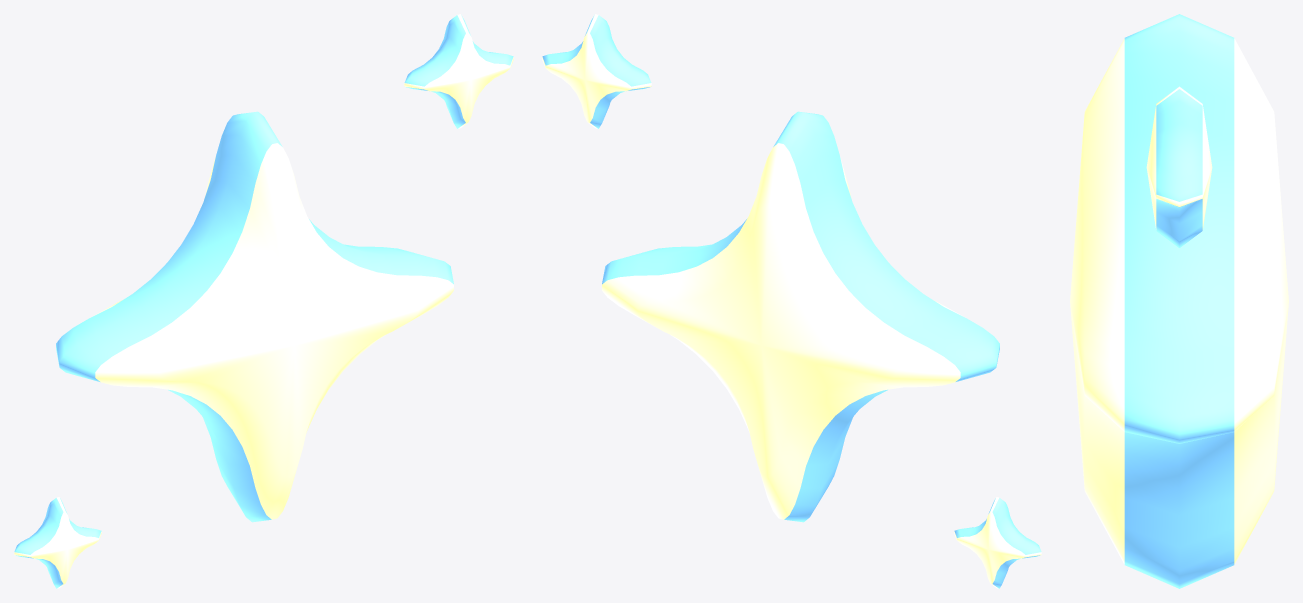
The model's file is estrela-cintilante.glb.
3 renders of one model, left to right at view 1: azimuth 30°, elevation 25°; view 2: azimuth 150°, elevation 25°; view 3: azimuth 270°, elevation 25°, orthographic. The views are drawn at different scales.
Parts seen in each view (by area): view 1: estrela-cintilante; view 2: estrela-cintilante; view 3: estrela-cintilante.
Boxes of the visible parts, bbox=[...] form: estrela-cintilante: bbox=[14, 14, 513, 588]; estrela-cintilante: bbox=[542, 14, 1041, 588]; estrela-cintilante: bbox=[1070, 14, 1288, 588].
Bounding box in the file's own units: 0.1469 × 0.1339 × 0.04.
